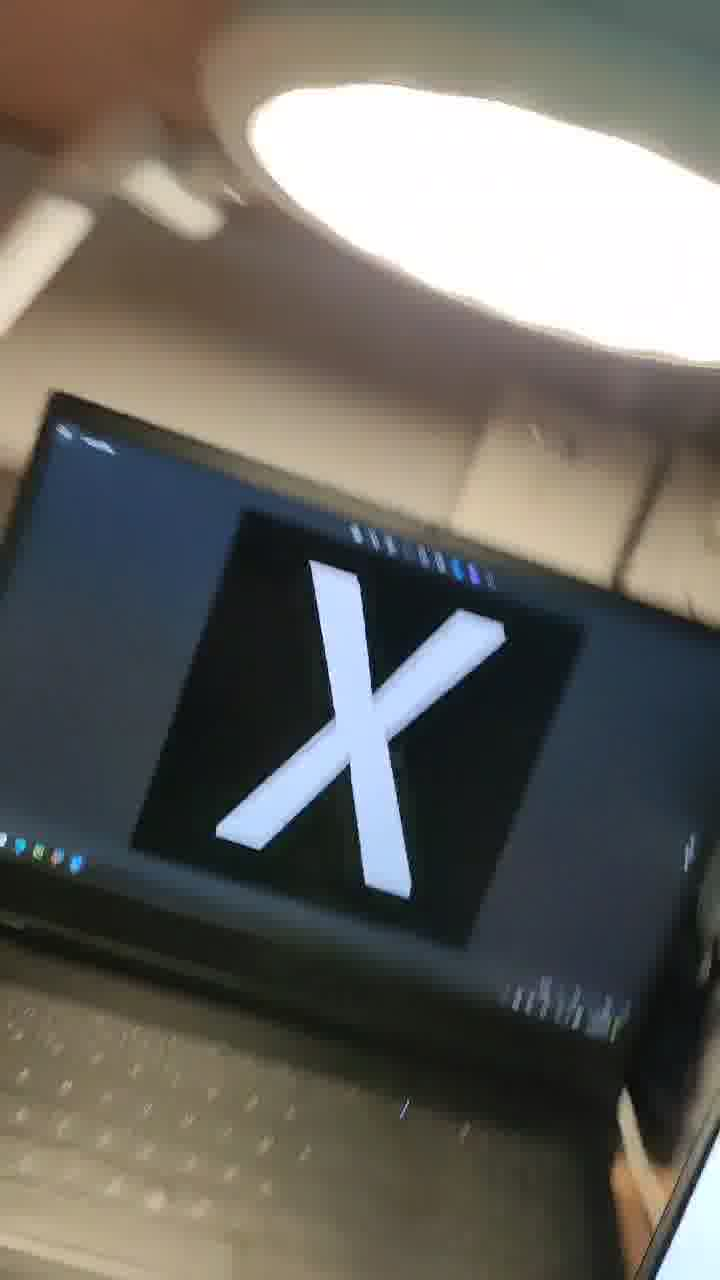X: (212, 475, 531, 915)
